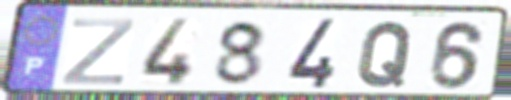4: (137, 17, 196, 89), (285, 16, 338, 92)
6: (426, 19, 488, 91)
8: (210, 19, 268, 88)
Q: (354, 20, 417, 90)
Z: (58, 17, 139, 87)
